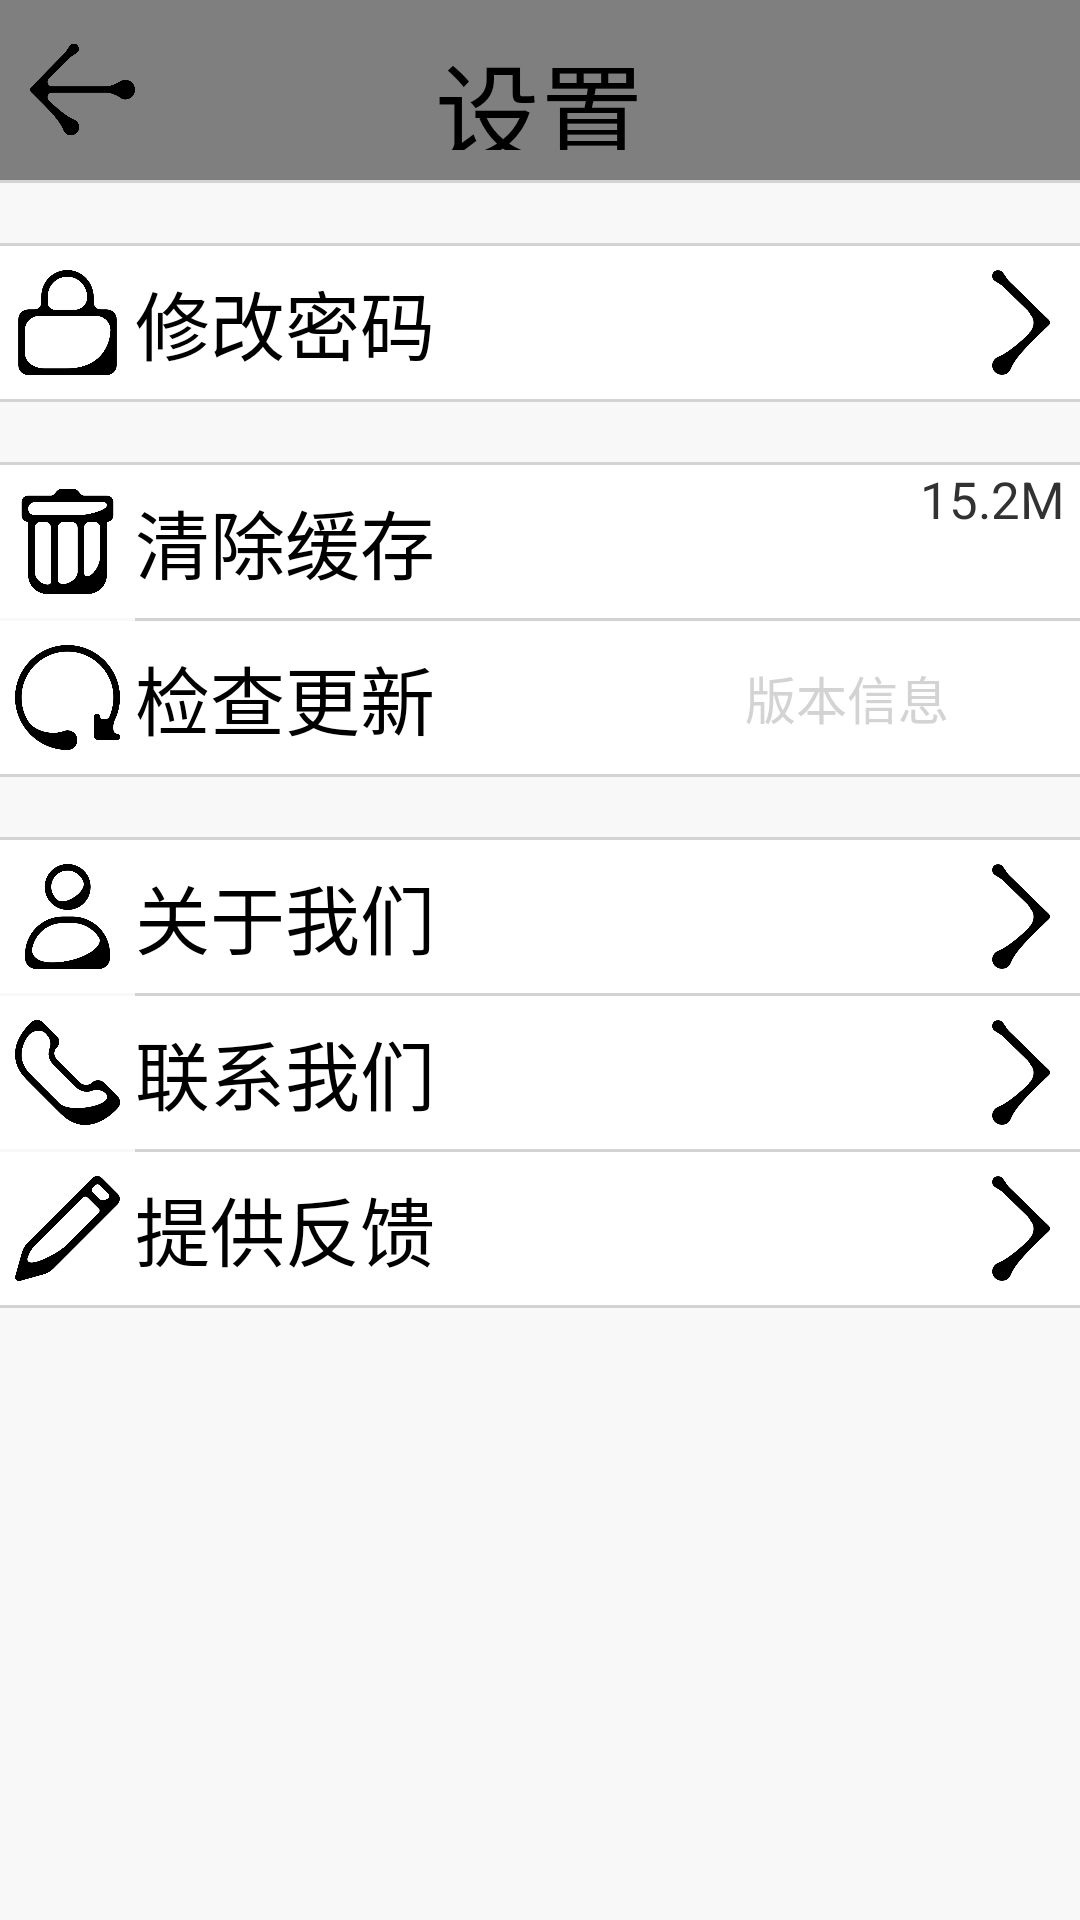

Icon click points for this 1080 x 1920 phone screenshot, format [x,y]:
back: [82,89]
garbage: [67,541]
padlock: [67,322]
telephone: [67,1072]
update: [67,697]
user: [67,916]
